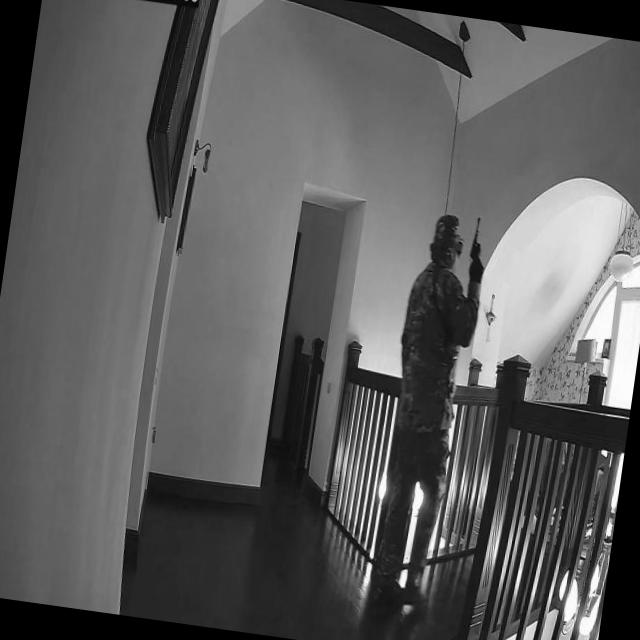gun: (466, 216, 488, 268)
person with a gun: (362, 205, 486, 618)
